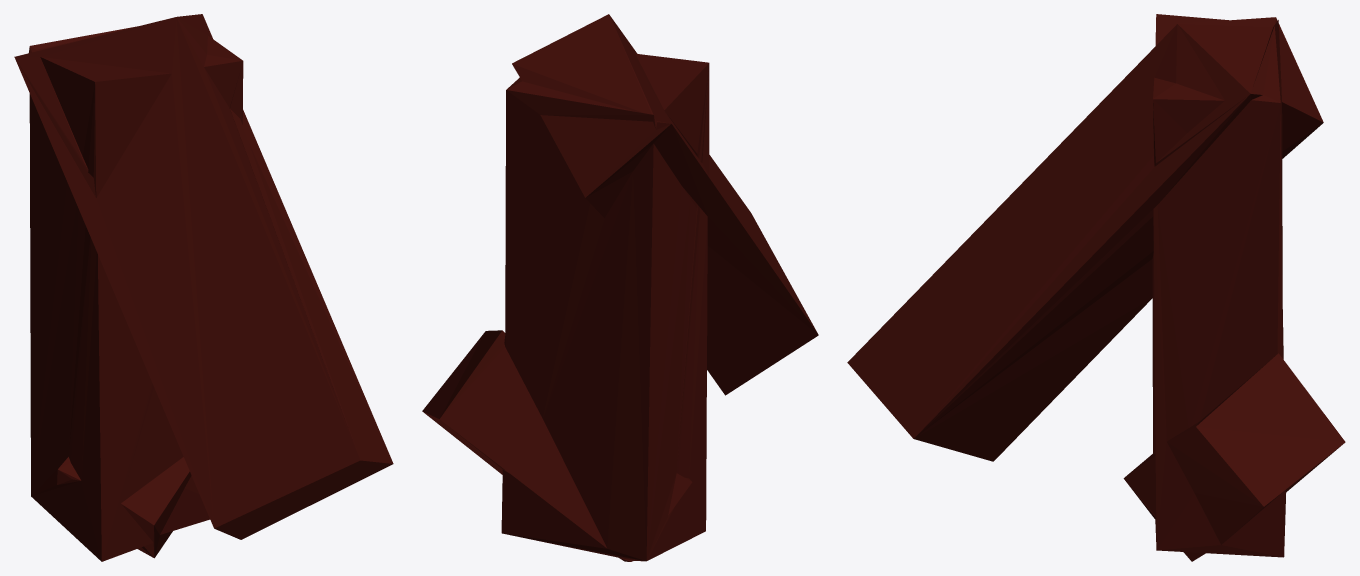
3 renders of one model, left to right at view 1: azimuth 30°, elevation 25°; view 2: azimuth 150°, elevation 25°; view 3: azimuth 270°, elevation 25°, orthographic. The views are drawn at different scales.
Visible parts, largest first — view 1: 324_Cube.1324; view 2: 324_Cube.1324; view 3: 324_Cube.1324.
Part boxes in pixels (x1,y1,x2,y2): 324_Cube.1324: [14, 14, 393, 561]; 324_Cube.1324: [422, 14, 818, 561]; 324_Cube.1324: [847, 14, 1345, 561].
Size of the model in its own units: 7.26 by 14.48 by 11.99.
